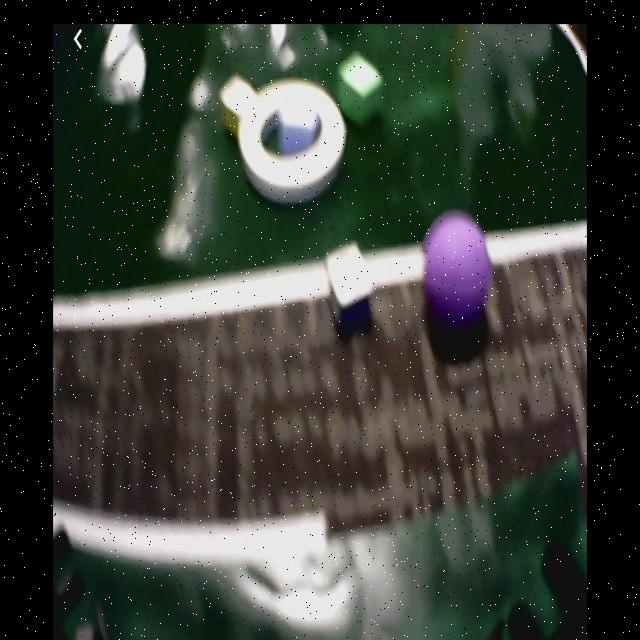ball: (424, 212, 488, 322)
